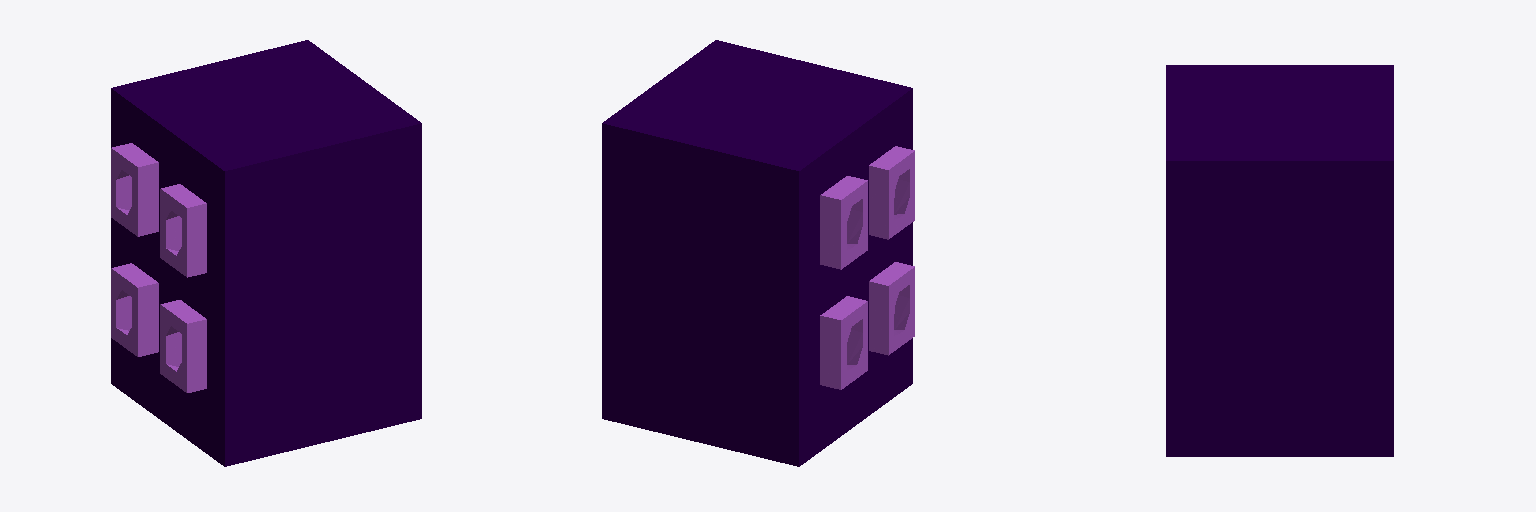
3 views of the same model, side by side, from view 1: azimuth 30°, elevation 25°; view 2: azimuth 150°, elevation 25°; view 3: azimuth 270°, elevation 25° (orthographic).
Visible parts, largest first — view 1: Box015; view 2: Box015; view 3: Box015.
Part boxes in pixels (left/top/right/bottom): Box015: left=111, top=40, right=421, bottom=466; Box015: left=602, top=40, right=914, bottom=466; Box015: left=1166, top=65, right=1393, bottom=456.
Bounding box in the file's own units: 9.81 × 12.7 × 8.87.
2 materials, 2 textured.